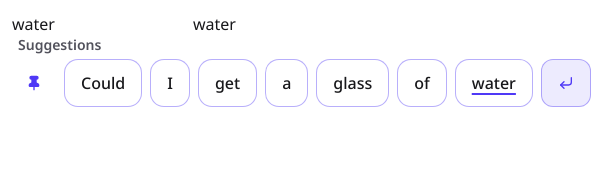
Test: replaces the draft with a saved phrase that contains it, and keeps the rest as a continuation
Click the button "glass". click: (353, 83)
box: [316,59,389,107]
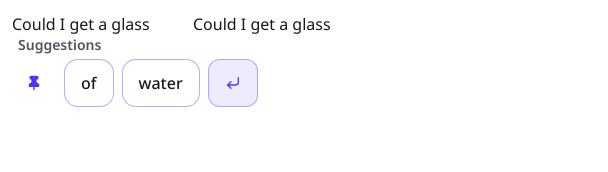
Now the text "Could I get a glass" is shown, box [193,13,331,35]
Click the button "water". click: (161, 83)
box: [122,59,200,107]
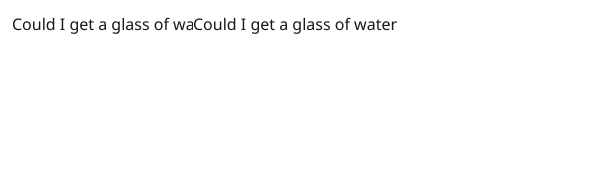
Now the text "Could I get a glass of water" is shown, box [193,13,397,35]
